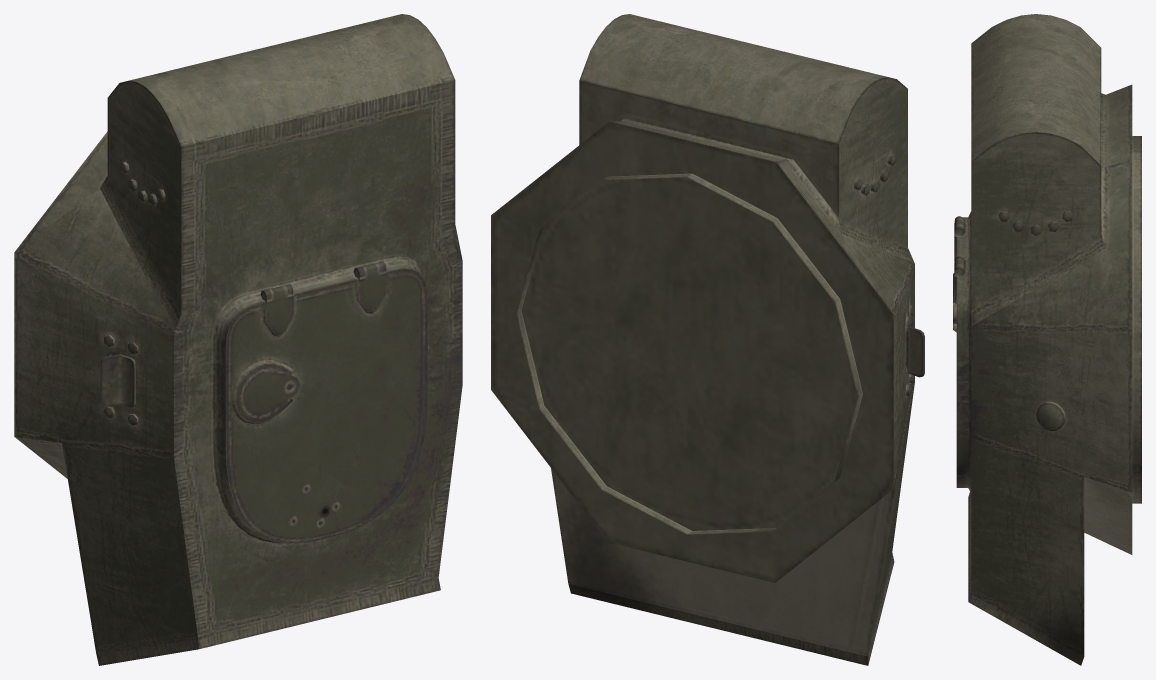
The model's file is Turret_01.glb.
3 renders of one model, left to right at view 1: azimuth 30°, elevation 25°; view 2: azimuth 150°, elevation 25°; view 3: azimuth 270°, elevation 25°, orthographic. The views are drawn at different scales.
Visible parts, largest first — view 1: set_0_group_0; view 2: set_0_group_0; view 3: set_0_group_0.
Part boxes in pixels (x1,y1,x2,y2): set_0_group_0: [14, 14, 462, 665]; set_0_group_0: [491, 14, 924, 665]; set_0_group_0: [953, 14, 1141, 665].
Size of the model in its own units: 1.18 by 1.58 by 0.5141.
Materials: 1 (1 with a texture image).
